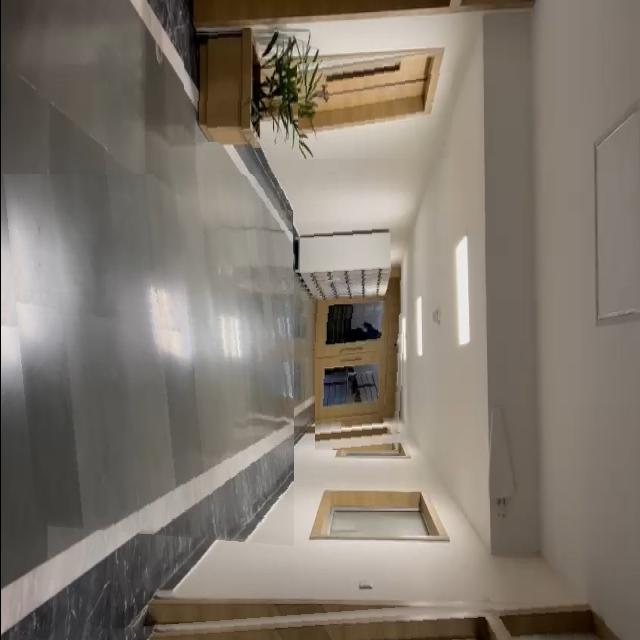door: (94, 592, 604, 640), (296, 49, 451, 159), (314, 304, 404, 450)
floor: (0, 174, 293, 549)
furniture: (292, 200, 400, 313), (183, 30, 285, 142)
